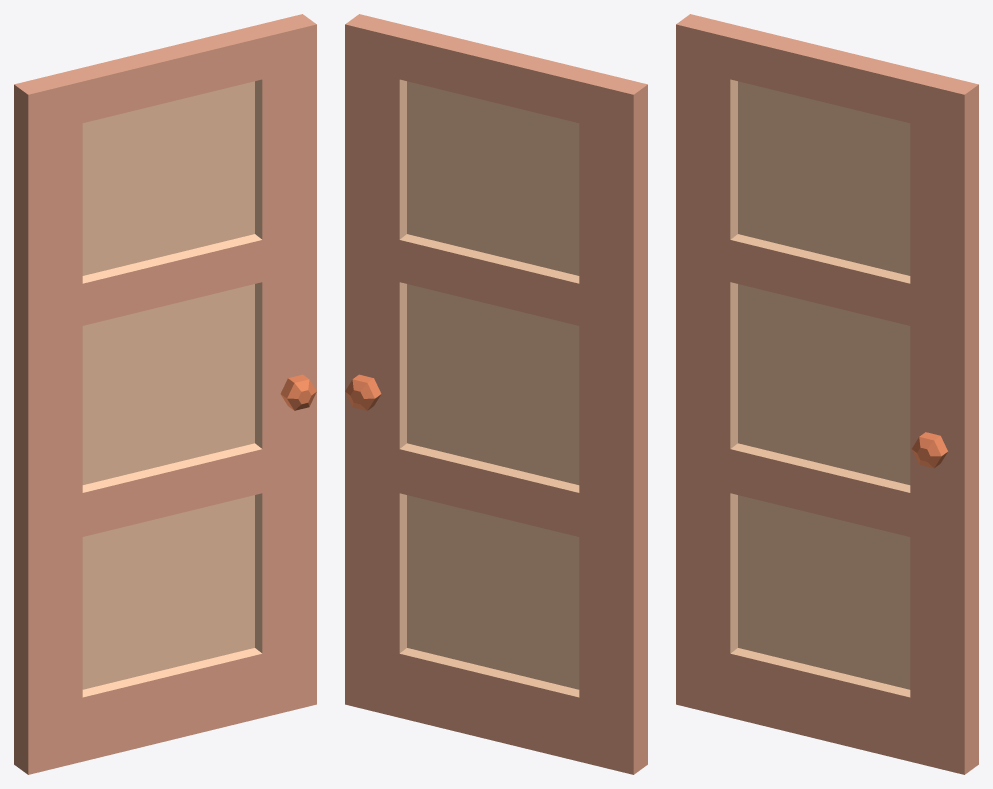
Rendered from men_ONE.fbx.
The picture shows the model from 3 angles, left to right: view 1: azimuth 30°, elevation 25°; view 2: azimuth 150°, elevation 25°; view 3: azimuth 330°, elevation 25°; orthographic projection.
Visible parts, largest first — view 1: sence_1_65; view 2: sence_1_65; view 3: sence_1_65.
Boxes of the visible parts, box(x1,y1,x2,y2) form: sence_1_65: box(14, 14, 316, 774); sence_1_65: box(345, 14, 647, 774); sence_1_65: box(676, 14, 978, 774).
Bounding box in the file's own units: 12.11 × 27.28 × 3.13.
